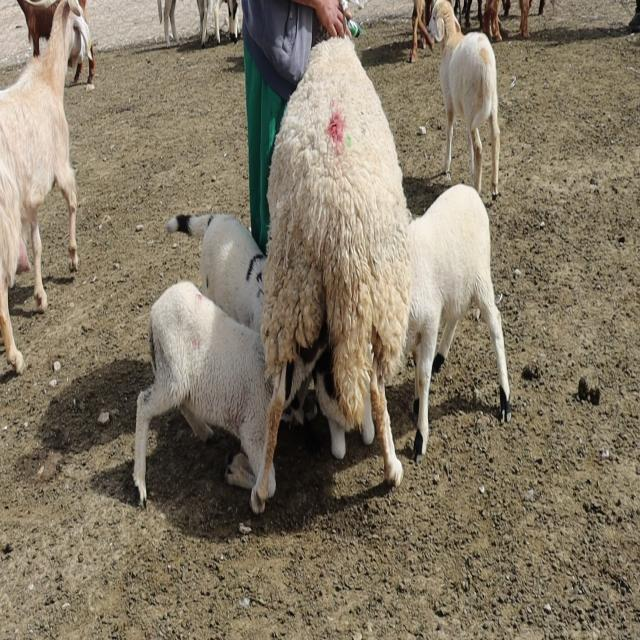Score_4: (250, 38, 412, 513)
